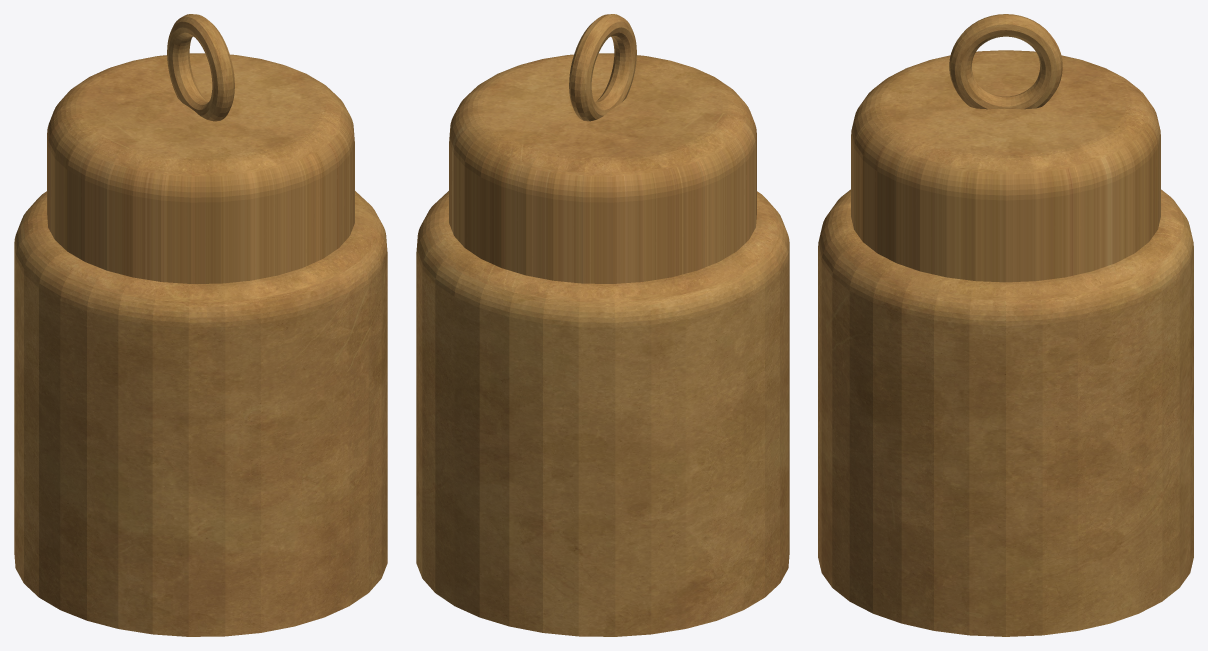
The model's file is Load.fbx.
3 views of the same model, side by side, from view 1: azimuth 30°, elevation 25°; view 2: azimuth 150°, elevation 25°; view 3: azimuth 270°, elevation 25° (orthographic).
Visible parts, largest first — view 1: PoidsMecanisme, Accroche; view 2: PoidsMecanisme, Accroche; view 3: PoidsMecanisme, Accroche.
Boxes of the visible parts, x1,y1,x2,y2 form: PoidsMecanisme: [14, 53, 387, 636]; Accroche: [167, 14, 234, 121]; PoidsMecanisme: [416, 53, 789, 636]; Accroche: [569, 14, 636, 121]; PoidsMecanisme: [818, 50, 1193, 636]; Accroche: [949, 14, 1062, 109].
Bounding box in the file's own units: 0.3519 × 0.3519 × 0.5606.
1 material, 1 textured.
